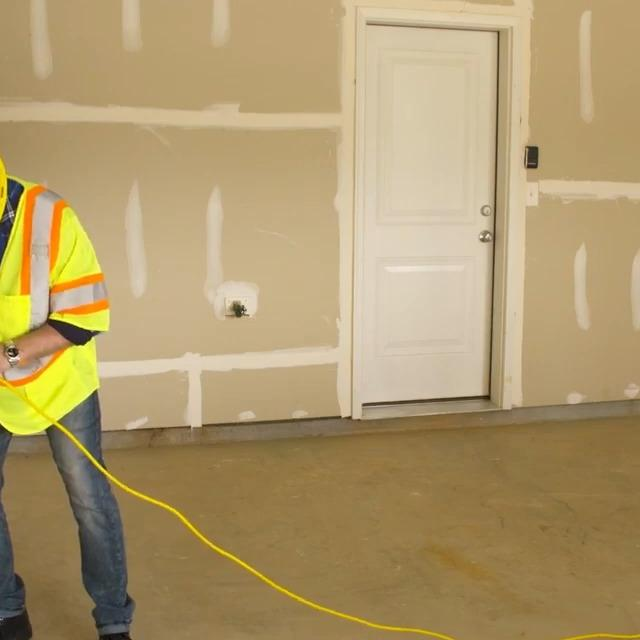Person: (0, 128, 135, 640)
Safety Vest: (0, 177, 105, 412)
